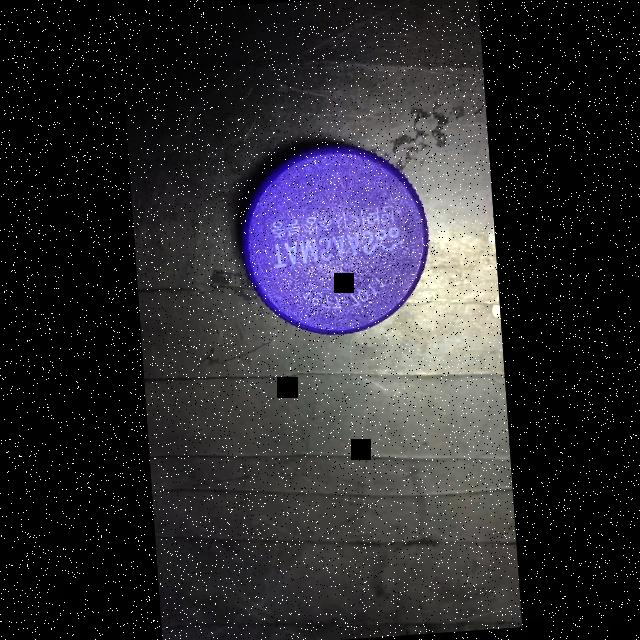plastic_bottle_cap: (233, 132, 438, 348)
